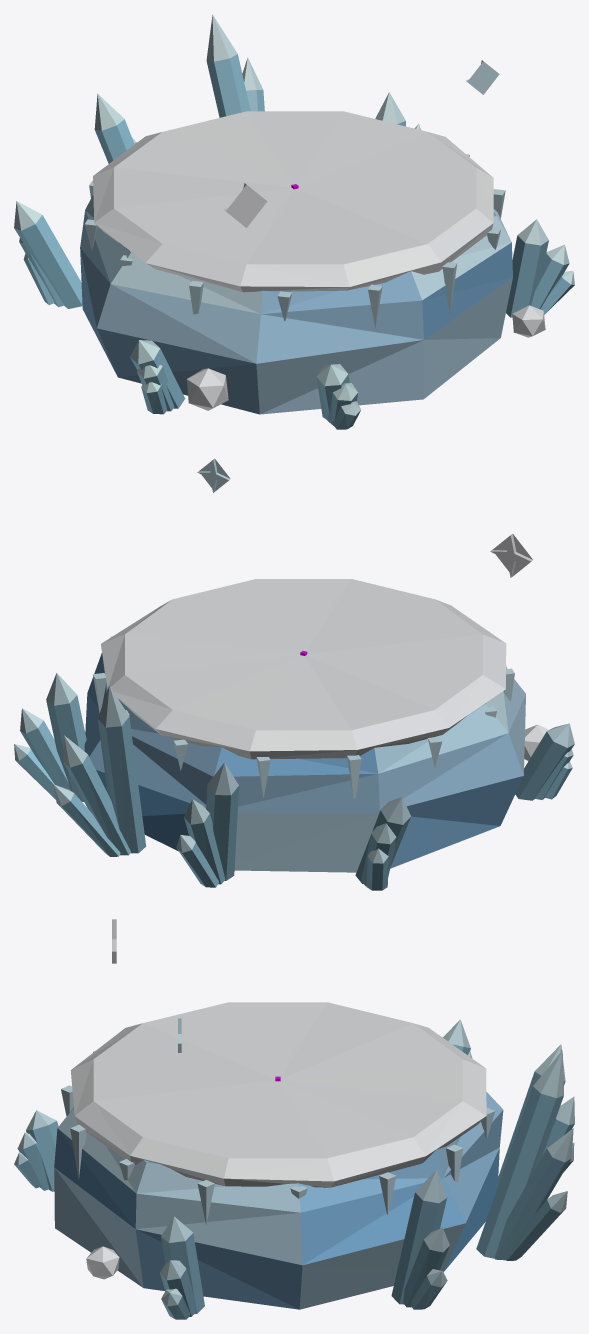
The model's file is Platform_FrostShiba.fbx.
3 views of the same model, one above another, from view 1: azimuth 30°, elevation 25°; view 2: azimuth 150°, elevation 25°; view 3: azimuth 270°, elevation 25° (orthographic). The views are drawn at different scales.
Visible parts, largest first — view 1: Body; view 2: Body; view 3: Body.
Boxes of the visible parts, box(x1,y1,x2,y2) form: Body: box(14, 14, 574, 429); Body: box(14, 458, 574, 890); Body: box(14, 919, 574, 1319).
Size of the model in its own units: 9.52 by 5.45 by 10.28.
